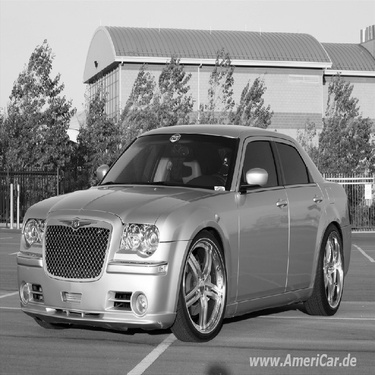car: (1, 119, 358, 348)
